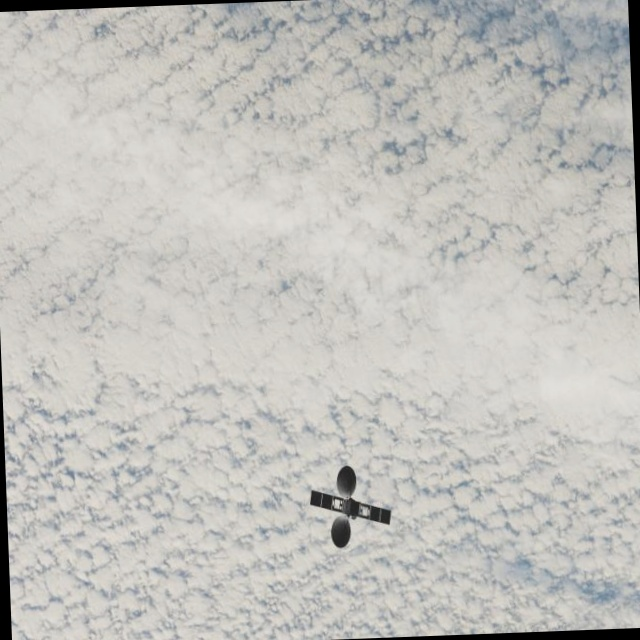satellite: (305, 461, 402, 555)
